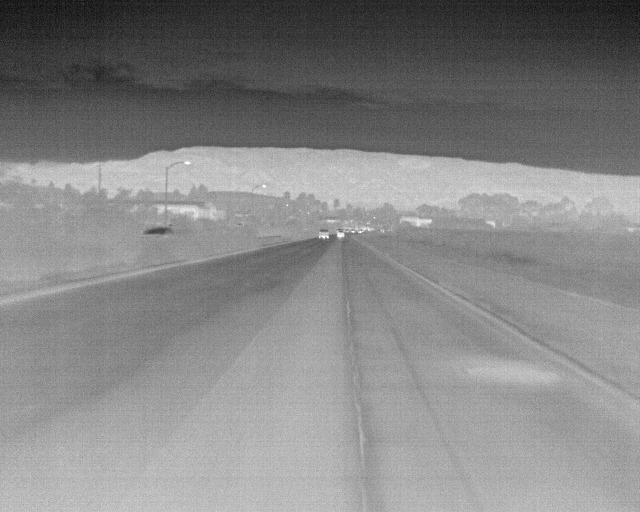car: (315, 227, 331, 242)
